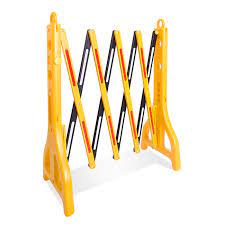obstacle: (41, 9, 182, 196)
